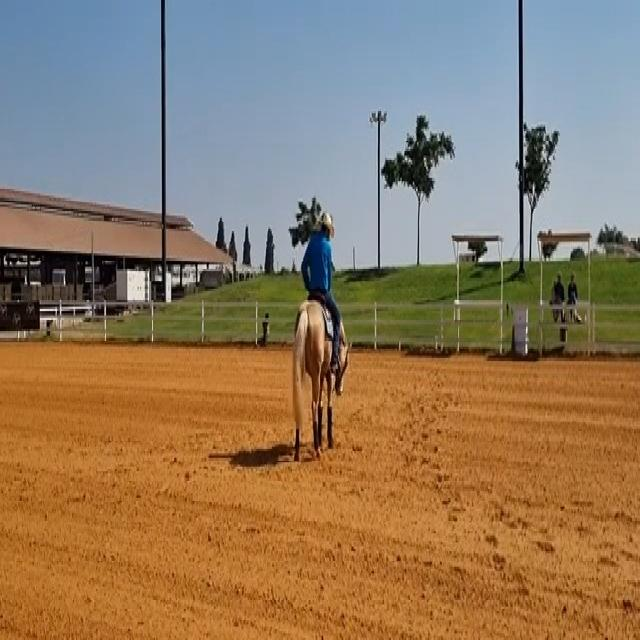horse: (290, 294, 341, 462)
